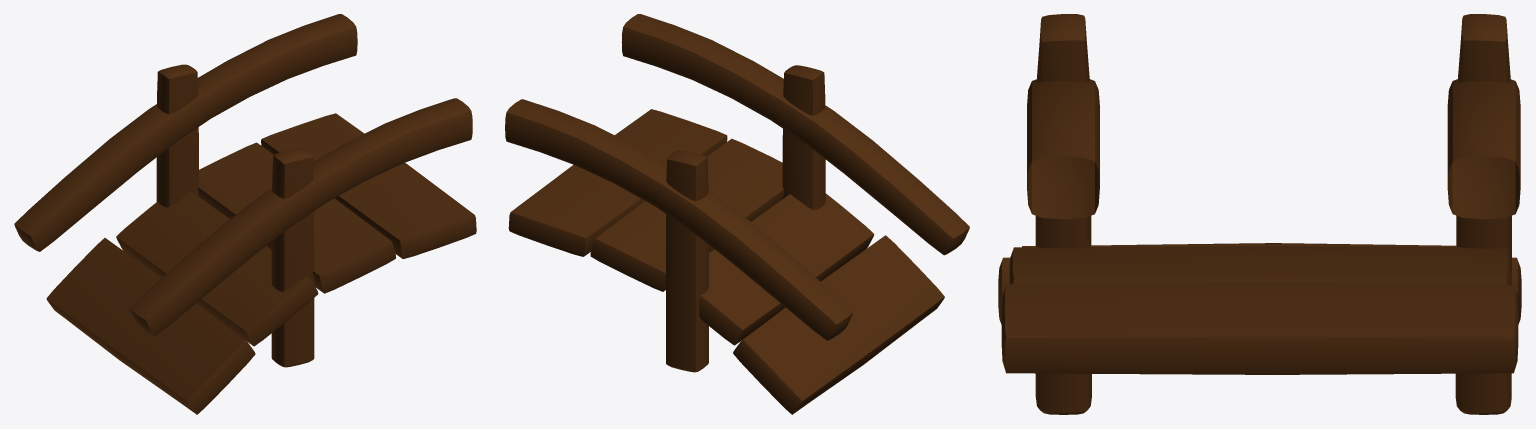
Rendered from Bridge_Modular.obj.
3 renders of one model, left to right at view 1: azimuth 30°, elevation 25°; view 2: azimuth 150°, elevation 25°; view 3: azimuth 270°, elevation 25°, orthographic. The views are drawn at different scales.
Parts seen in each view (by area): view 1: Bridge_Modular_Cube.051; view 2: Bridge_Modular_Cube.051; view 3: Bridge_Modular_Cube.051.
Boxes of the visible parts, <box> form: Bridge_Modular_Cube.051: <box>14,14,476,414</box>; Bridge_Modular_Cube.051: <box>505,14,969,414</box>; Bridge_Modular_Cube.051: <box>998,14,1521,414</box>.
Bounding box in the file's own units: 2.95 × 2.01 × 2.24.
